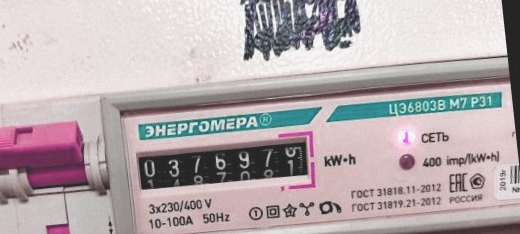0: (141, 156, 156, 177)
1: (284, 156, 297, 175)
3: (165, 156, 180, 177)
6: (212, 148, 227, 170)
7: (188, 151, 203, 173), (260, 145, 274, 168)
9: (236, 147, 250, 169)
screen: (127, 124, 322, 207)
